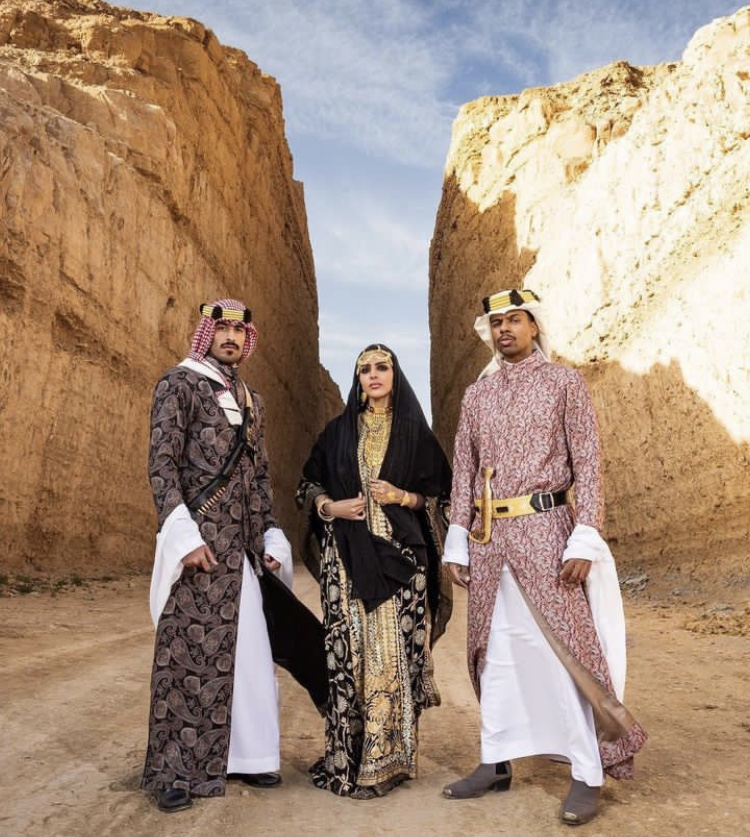Saudi_Founding_Day: (442, 288, 648, 826), (139, 296, 295, 814), (291, 340, 455, 803)
